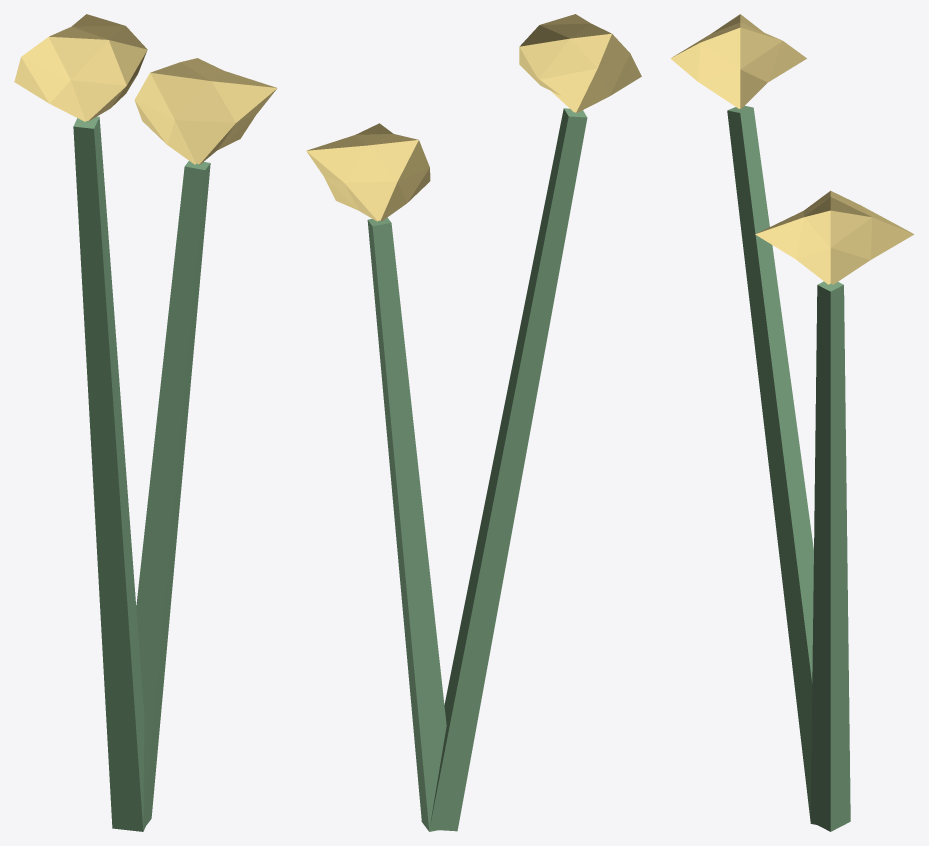
The model's file is flower_v44.glb.
3 renders of one model, left to right at view 1: azimuth 30°, elevation 25°; view 2: azimuth 150°, elevation 25°; view 3: azimuth 270°, elevation 25°, orthographic. The views are drawn at different scales.
Visible parts, largest first — view 1: lod0; view 2: lod0; view 3: lod0.
Boxes of the visible parts, <box> form: lod0: <box>14,14,277,831</box>; lod0: <box>306,14,641,831</box>; lod0: <box>670,14,914,831</box>.
Size of what is drawn, in the model's own units: 0.2878 by 0.7615 by 0.2195.
